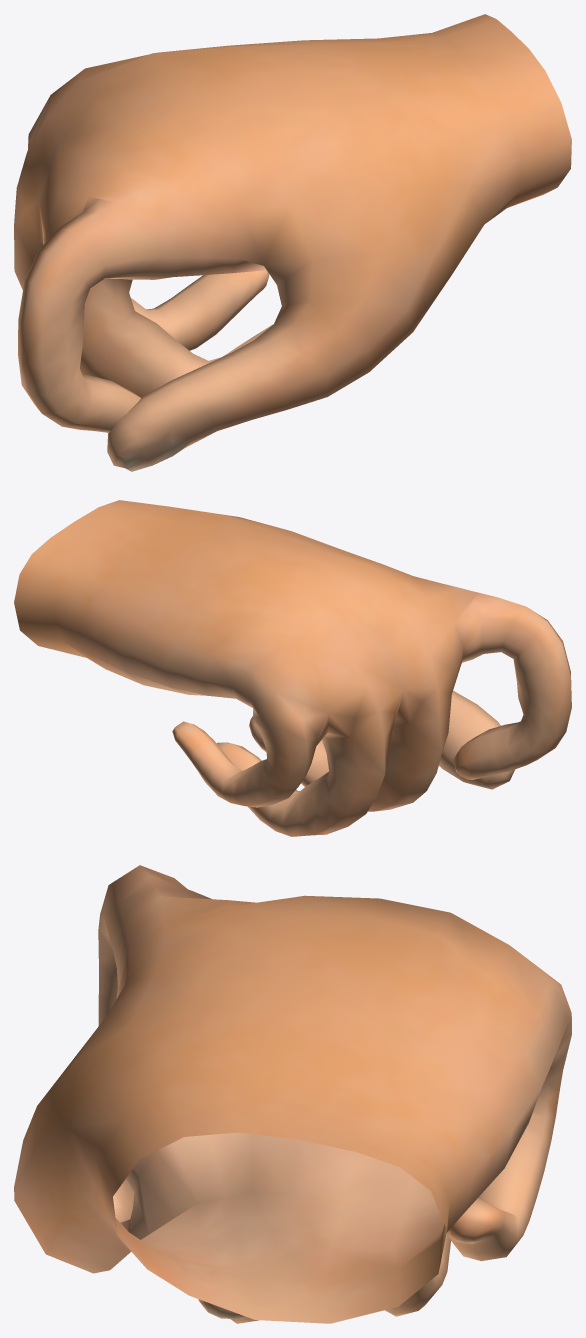
Rendered from H_lateral_pinch.fbx.
3 renders of one model, top to bottom at view 1: azimuth 30°, elevation 25°; view 2: azimuth 150°, elevation 25°; view 3: azimuth 270°, elevation 25°, orthographic. The views are drawn at different scales.
Visible parts, largest first — view 1: H_lateral_pinch; view 2: H_lateral_pinch; view 3: H_lateral_pinch.
Boxes of the visible parts, bbox=[...] form: H_lateral_pinch: bbox=[14, 14, 571, 471]; H_lateral_pinch: bbox=[14, 500, 571, 836]; H_lateral_pinch: bbox=[14, 865, 571, 1323].
Size of the model in its own units: 15.45 by 8.06 by 10.27.
1 material, 1 textured.
